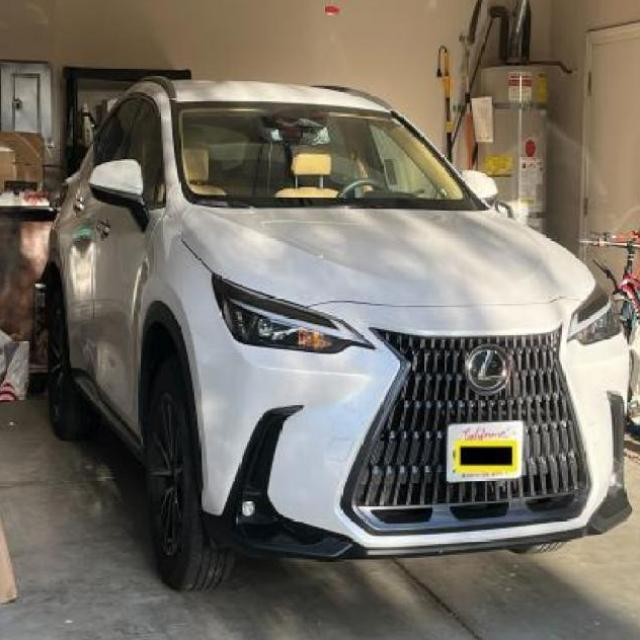license-plate: (443, 368, 592, 524)
